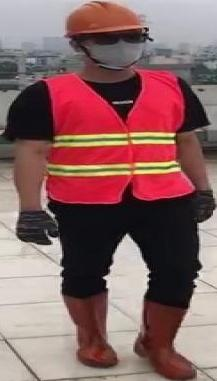boots: (126, 286, 195, 380), (60, 285, 116, 364)
gloves: (15, 210, 57, 246), (192, 188, 216, 222)
hard-hat: (63, 0, 146, 38)
mask: (78, 36, 146, 70)
ppe-suit: (2, 67, 211, 206)
